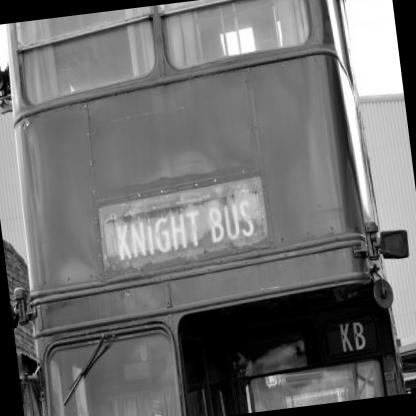bus: (1, 1, 408, 416)
